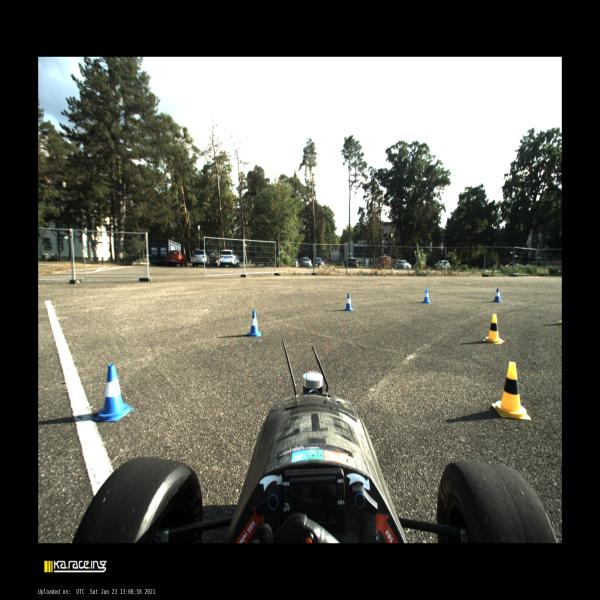blue_cone: (94, 364, 134, 421), (248, 310, 262, 336), (344, 294, 353, 310), (492, 288, 502, 302), (423, 288, 430, 302)
yellow_cone: (491, 362, 531, 420), (483, 314, 504, 344)
